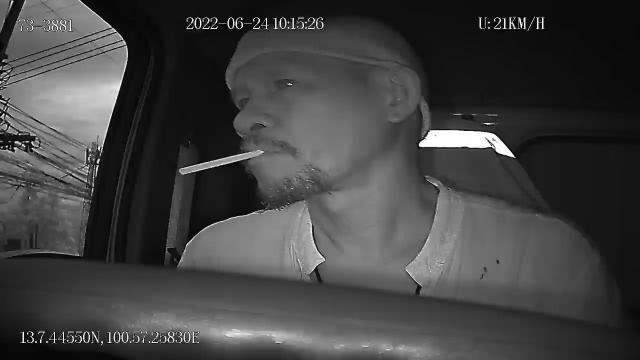SafeDriving: (266, 66, 310, 96)
Smoking: (180, 148, 264, 176)
